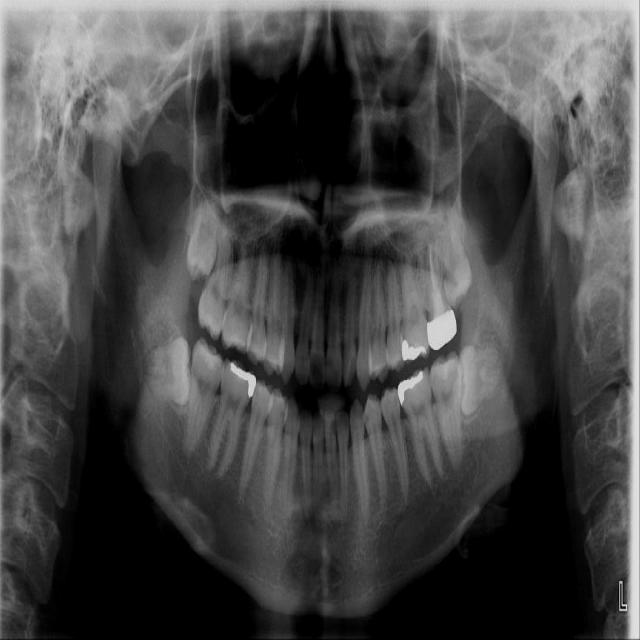Caries: (441, 262, 455, 284)
Crown: (426, 308, 458, 351)
Filling: (231, 362, 256, 399), (398, 371, 423, 404), (402, 339, 427, 360)
Root Canal Treatment: (432, 242, 437, 302)
impacted tooth: (138, 339, 195, 406), (183, 190, 220, 278), (461, 346, 507, 414), (441, 209, 470, 304)
